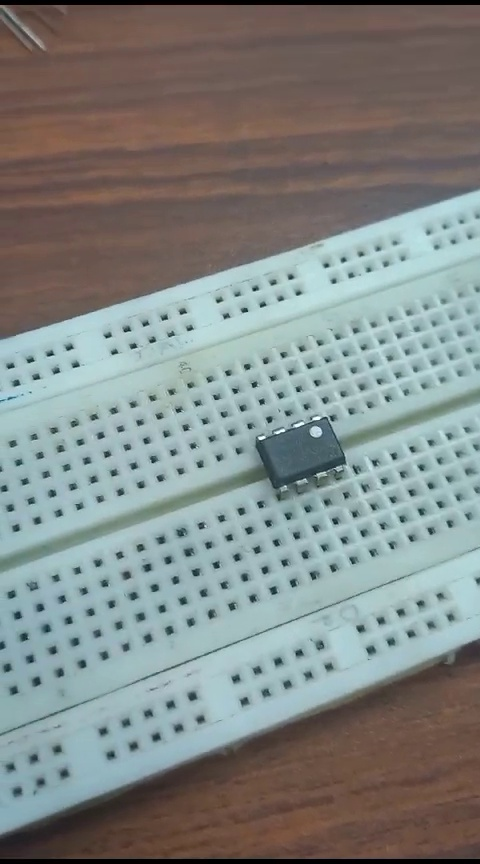IC: (254, 399, 358, 513)
